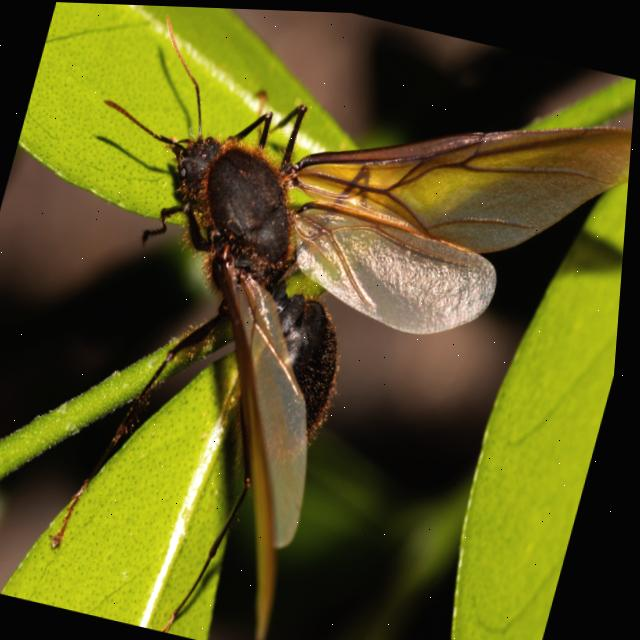Alive-Male-Alate: (0, 2, 640, 640)
